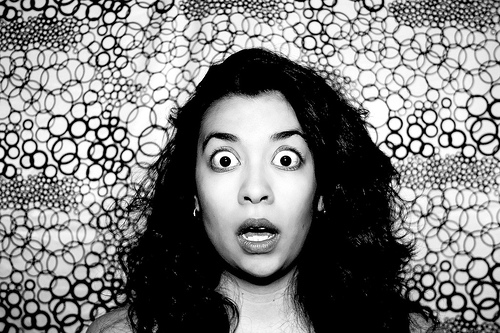without_mask: (185, 92, 337, 287)
